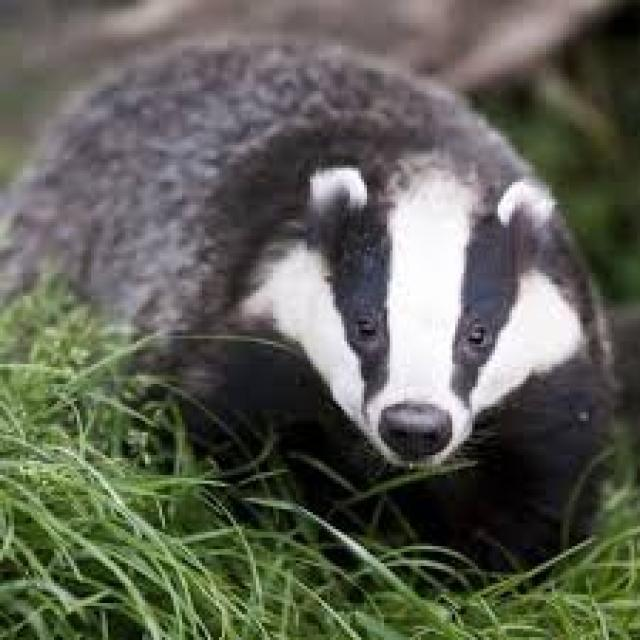Badger: (14, 35, 611, 560)
